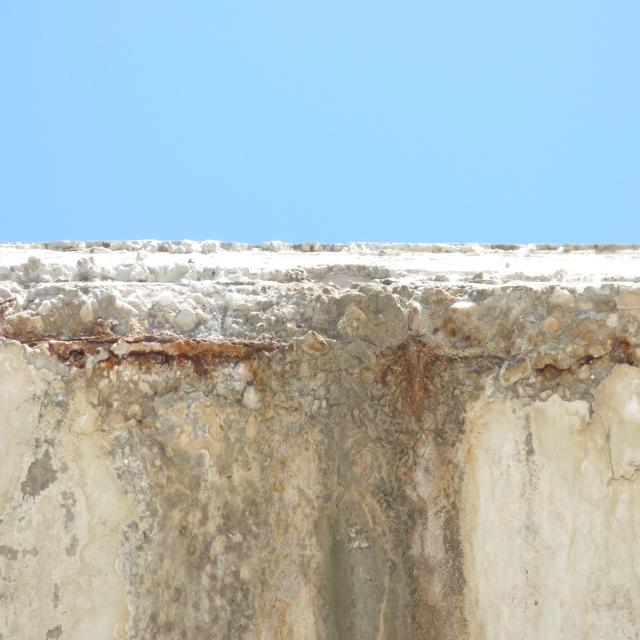corrosion: (351, 320, 640, 425), (5, 318, 296, 404)
